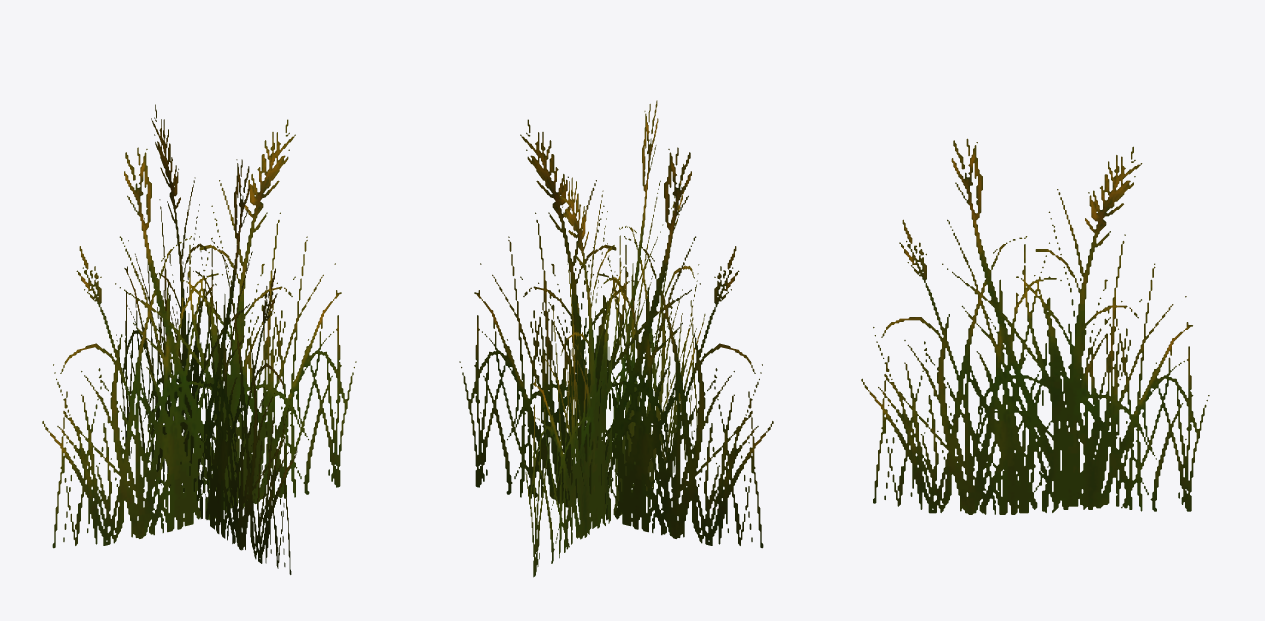
The model's file is INST_TROLLHOLE_GRASSPLANT.fbx.
The picture shows the model from 3 angles, left to right: view 1: azimuth 30°, elevation 25°; view 2: azimuth 150°, elevation 25°; view 3: azimuth 270°, elevation 25°; orthographic projection. The views are drawn at different scales.
Visible parts, largest first — view 1: INST_TROLLHOLE_GRASSPLANT; view 2: INST_TROLLHOLE_GRASSPLANT; view 3: INST_TROLLHOLE_GRASSPLANT.
Part boxes in pixels (x1,y1,x2,y2): INST_TROLLHOLE_GRASSPLANT: [42, 104, 356, 574]; INST_TROLLHOLE_GRASSPLANT: [459, 100, 773, 577]; INST_TROLLHOLE_GRASSPLANT: [861, 138, 1209, 514].
Bounding box in the file's own units: 7789 × 8487 × 7789.
Materials: 1 (1 with a texture image).
